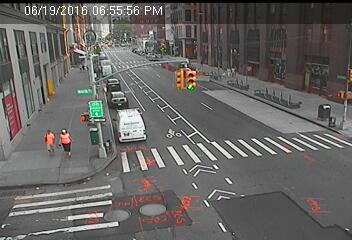neg: (191, 125, 211, 152), (151, 193, 169, 217), (48, 181, 65, 203), (282, 98, 298, 120), (29, 79, 45, 101), (240, 152, 256, 173), (190, 186, 206, 207), (303, 195, 319, 215), (91, 95, 106, 115), (321, 105, 336, 125), (106, 50, 121, 70), (58, 53, 73, 73), (244, 193, 259, 212), (220, 78, 234, 96), (258, 87, 272, 105), (109, 198, 122, 216), (121, 117, 134, 134), (171, 66, 184, 83), (293, 142, 306, 159), (167, 125, 179, 142)
pos: (36, 126, 58, 156), (53, 126, 75, 155)
